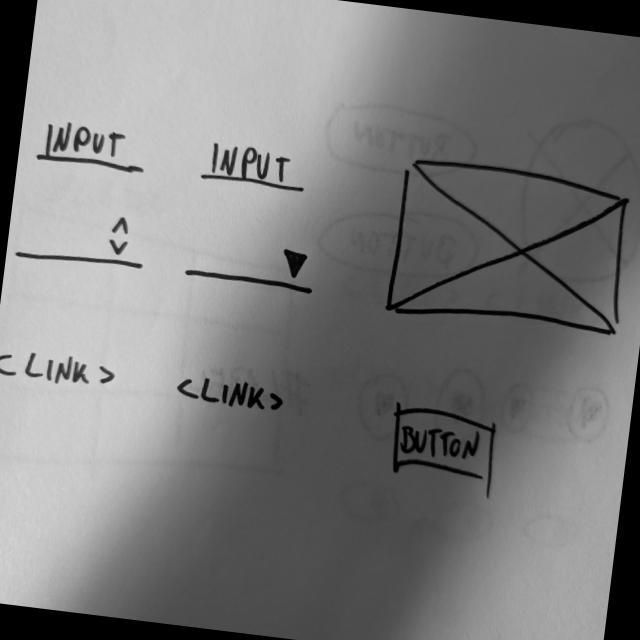button: (384, 398, 504, 488)
image: (380, 147, 640, 347)
input: (31, 114, 151, 178), (197, 138, 311, 200)
link: (0, 342, 120, 395), (171, 368, 290, 418)
number-input: (10, 200, 150, 276)
select: (178, 232, 322, 298)
